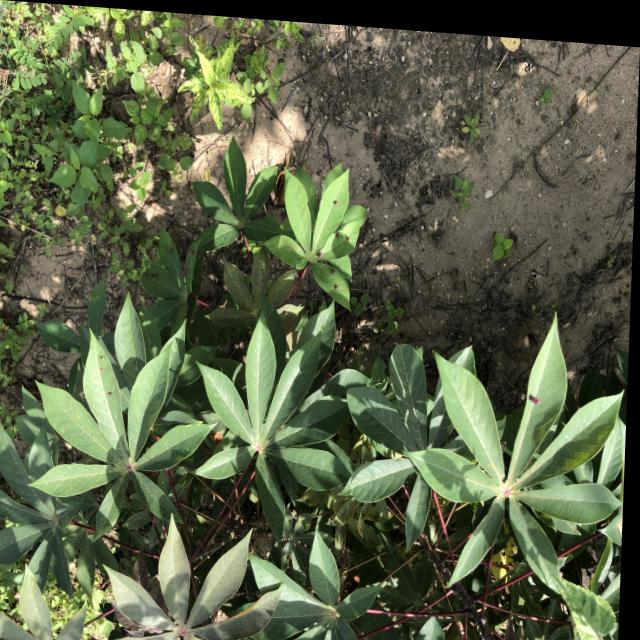Maleza: (0, 0, 164, 210)
Mosca: (509, 388, 557, 416), (102, 381, 125, 411), (90, 351, 108, 372), (330, 224, 352, 241), (326, 277, 344, 295), (314, 243, 328, 264), (330, 197, 344, 207)
